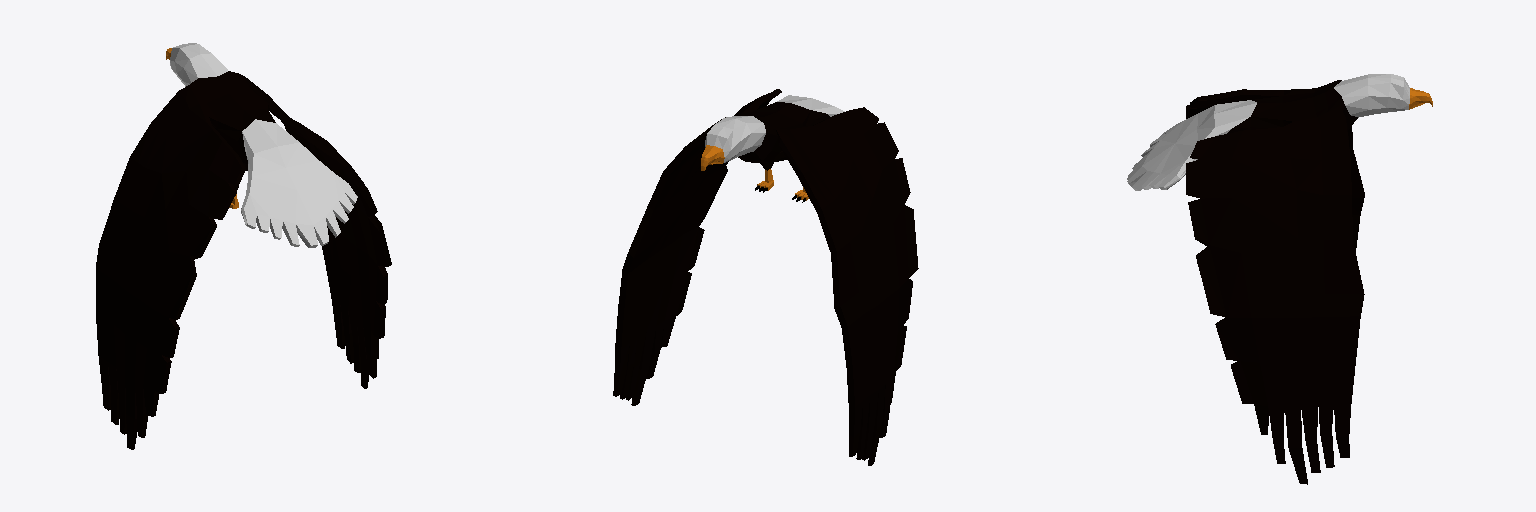
The model's file is Eagle.obj.
3 views of the same model, side by side, from view 1: azimuth 30°, elevation 25°; view 2: azimuth 150°, elevation 25°; view 3: azimuth 270°, elevation 25° (orthographic).
Parts seen in each view (by area): view 1: Eagle_Cylinder; view 2: Eagle_Cylinder; view 3: Eagle_Cylinder.
Part boxes in pixels (bbox=[...]): Eagle_Cylinder: bbox=[96, 43, 391, 449]; Eagle_Cylinder: bbox=[613, 89, 918, 465]; Eagle_Cylinder: bbox=[1127, 74, 1432, 484].
Bounding box in the file's own units: 4.42 × 5.94 × 4.78.